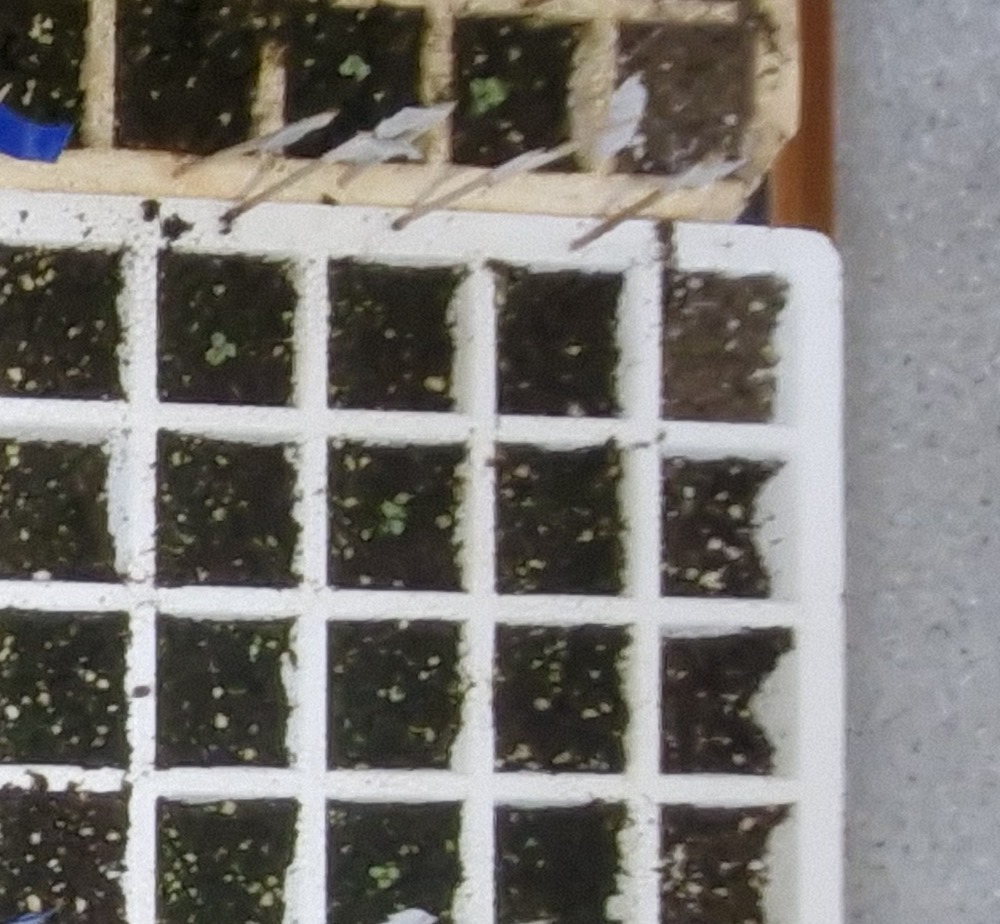Folha: (382, 500, 402, 516), (206, 350, 225, 366), (390, 492, 411, 505), (211, 334, 226, 351), (369, 867, 387, 879), (391, 522, 405, 535), (224, 344, 236, 357), (378, 879, 392, 889), (388, 868, 399, 880)
Germinacao: (379, 493, 412, 534), (206, 332, 237, 366), (370, 865, 402, 888)
